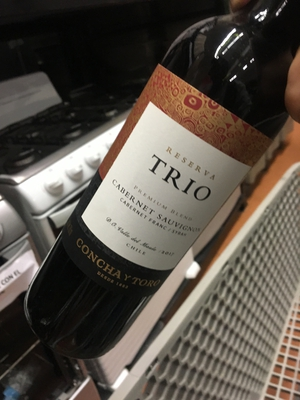trio cabernet sauvignon: (39, 33, 274, 336)
